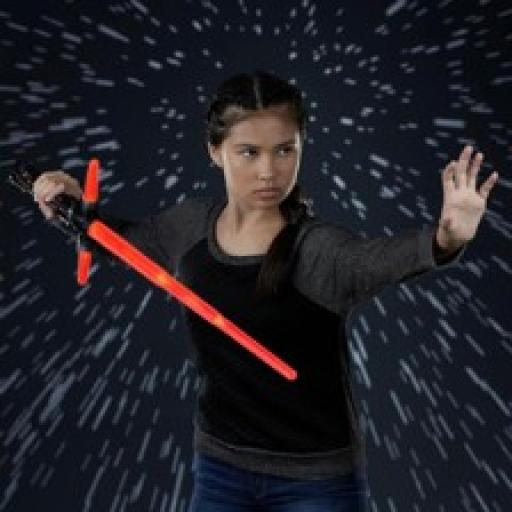lightsaber: (10, 157, 302, 385)
